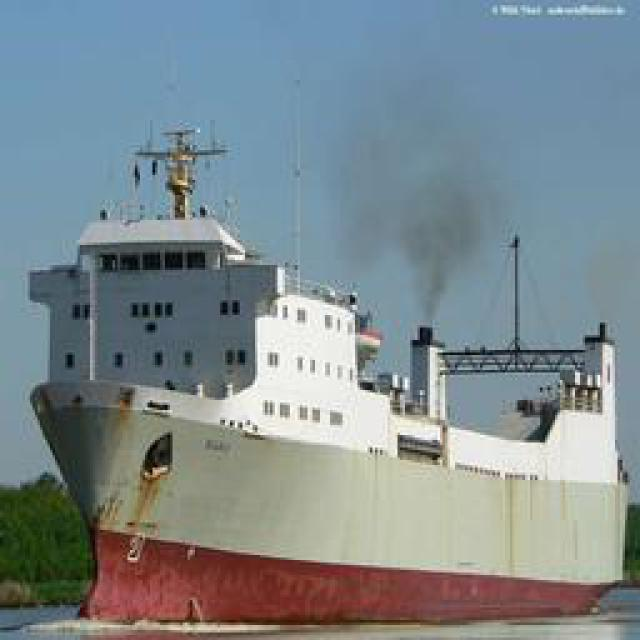Ship: (24, 107, 629, 627)
